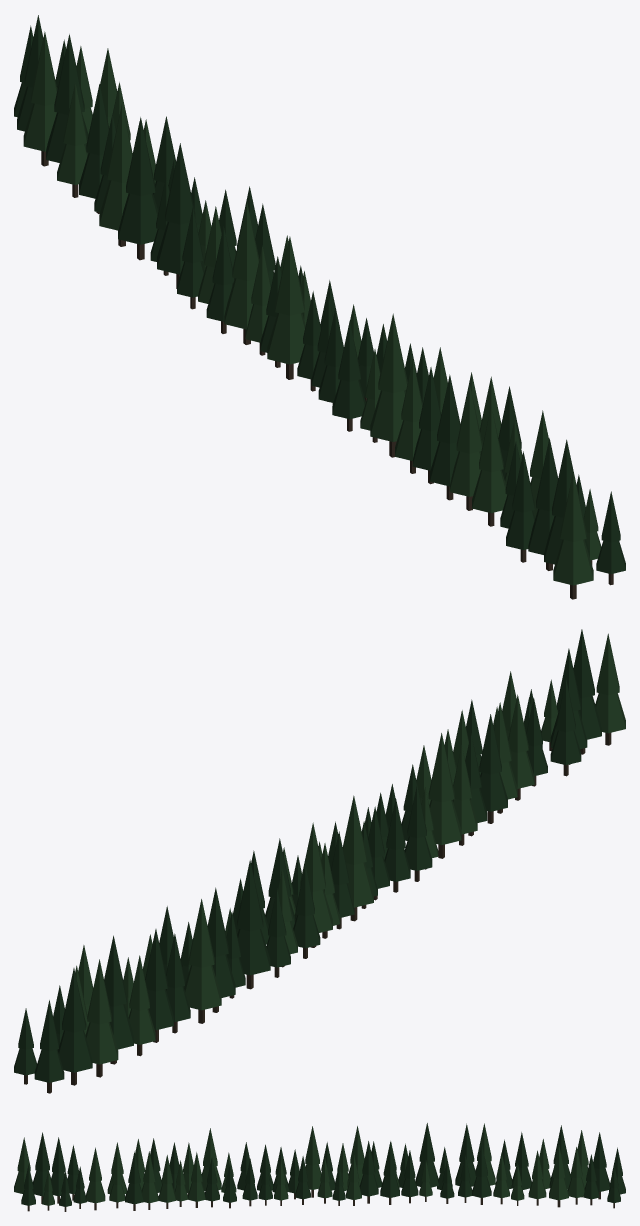
The model's file is forest_edge_11.glb.
3 renders of one model, top to bottom at view 1: azimuth 30°, elevation 25°; view 2: azimuth 150°, elevation 25°; view 3: azimuth 270°, elevation 25°, orthographic. The views are drawn at different scales.
Visible parts, largest first — view 1: chunk_0_0; view 2: chunk_0_0; view 3: chunk_0_0.
Boxes of the visible parts, left/top/right/bottom form: chunk_0_0: left=14, top=15, right=625, bottom=599; chunk_0_0: left=14, top=629, right=625, bottom=1093; chunk_0_0: left=14, top=1123, right=625, bottom=1211.
Size of the model in its own units: 21.83 by 31.16 by 206.
